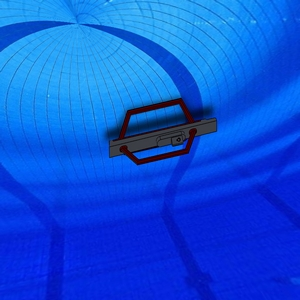submarine: (104, 98, 221, 168)
